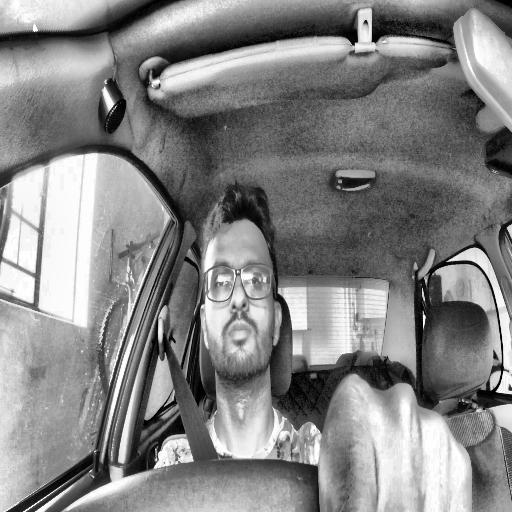awake: (200, 180, 283, 388)
